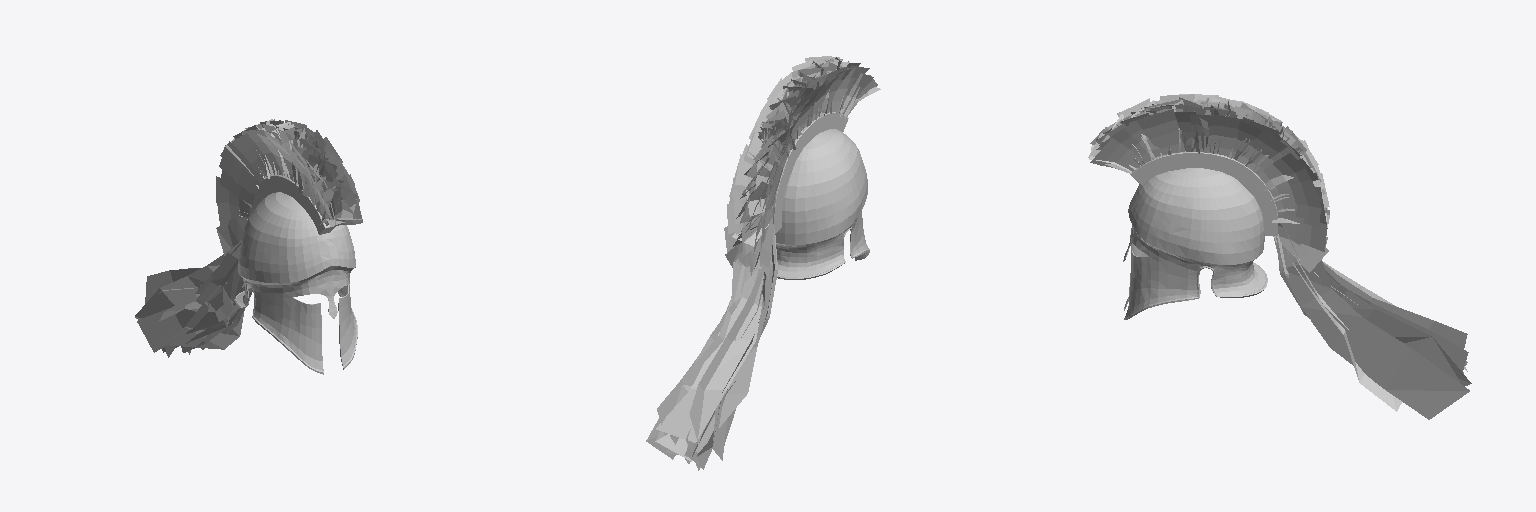
File: HelmetTX.obj
3 renders of one model, left to right at view 1: azimuth 30°, elevation 25°; view 2: azimuth 150°, elevation 25°; view 3: azimuth 270°, elevation 25°, orthographic.
Bounding box in the file's own units: 0.1702 × 0.5247 × 0.5867.